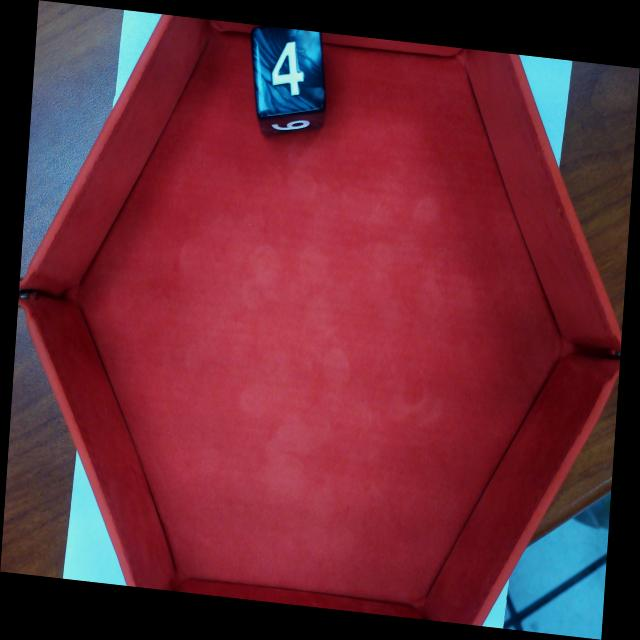dice: (248, 23, 328, 119)
